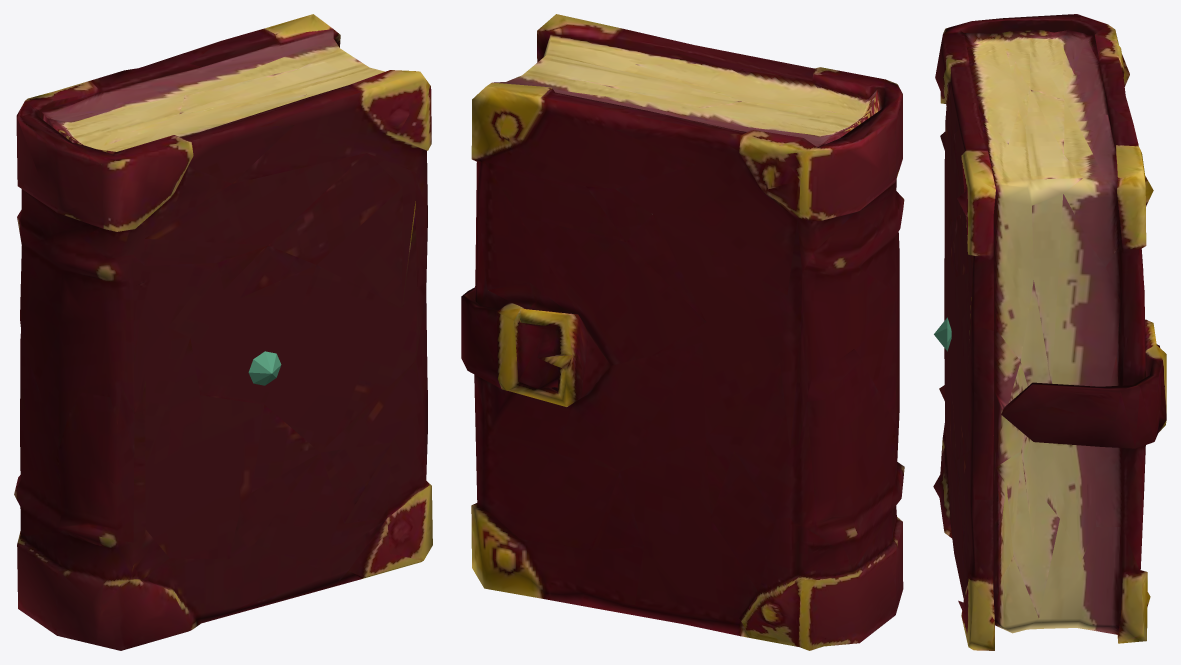
Rendered from tome_wynd_fine.glb.
3 renders of one model, left to right at view 1: azimuth 30°, elevation 25°; view 2: azimuth 150°, elevation 25°; view 3: azimuth 270°, elevation 25°, orthographic. The views are drawn at different scales.
Parts seen in each view (by area): view 1: tripo_node_e2315cda-409c-450a-ba6d-35b8a0cbbc79; view 2: tripo_node_e2315cda-409c-450a-ba6d-35b8a0cbbc79; view 3: tripo_node_e2315cda-409c-450a-ba6d-35b8a0cbbc79.
Part boxes in pixels (box(x1,y1,x2,y2)): tripo_node_e2315cda-409c-450a-ba6d-35b8a0cbbc79: box(14, 14, 432, 650); tripo_node_e2315cda-409c-450a-ba6d-35b8a0cbbc79: box(461, 14, 904, 650); tripo_node_e2315cda-409c-450a-ba6d-35b8a0cbbc79: box(933, 14, 1166, 650).
Bounding box in the file's own units: 0.7693 × 1 × 0.4455.
1 material, 1 textured.
